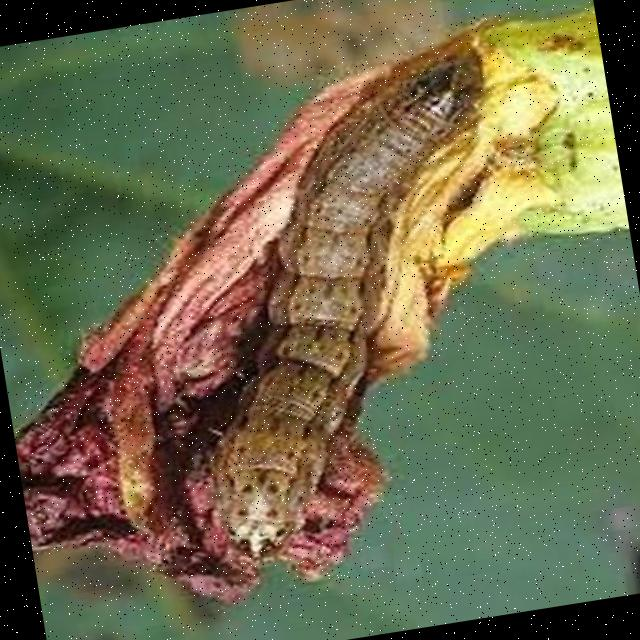worm: (146, 42, 562, 575)
